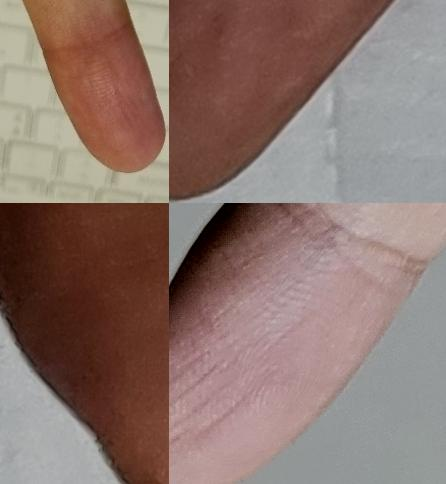Fingerprints: (169, 205, 411, 484), (0, 203, 169, 484), (169, 0, 394, 202), (43, 20, 165, 173)
